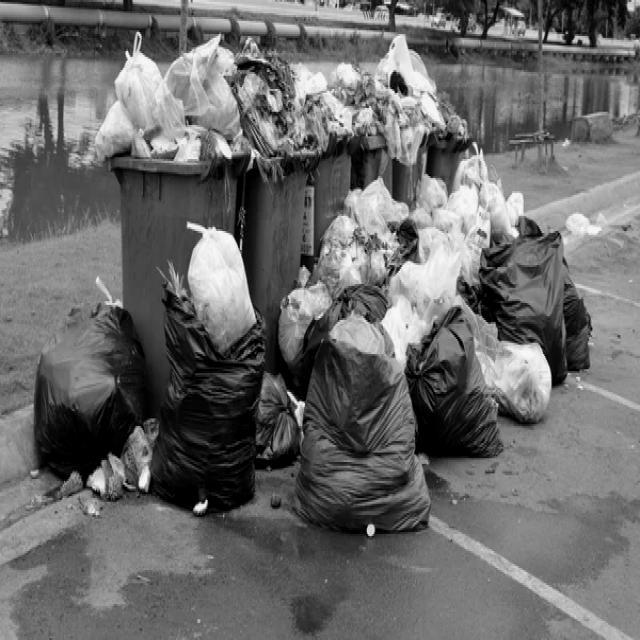high trash: (35, 155, 590, 536), (95, 34, 468, 169)
less trash: (565, 212, 601, 236)
